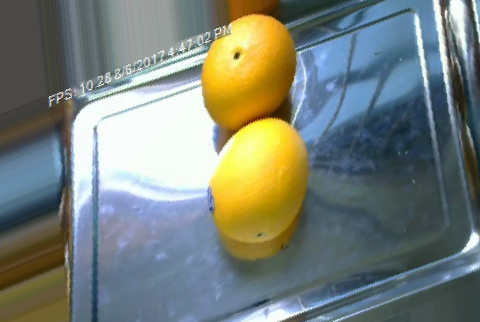Orange: (208, 116, 307, 242), (200, 12, 295, 130)
